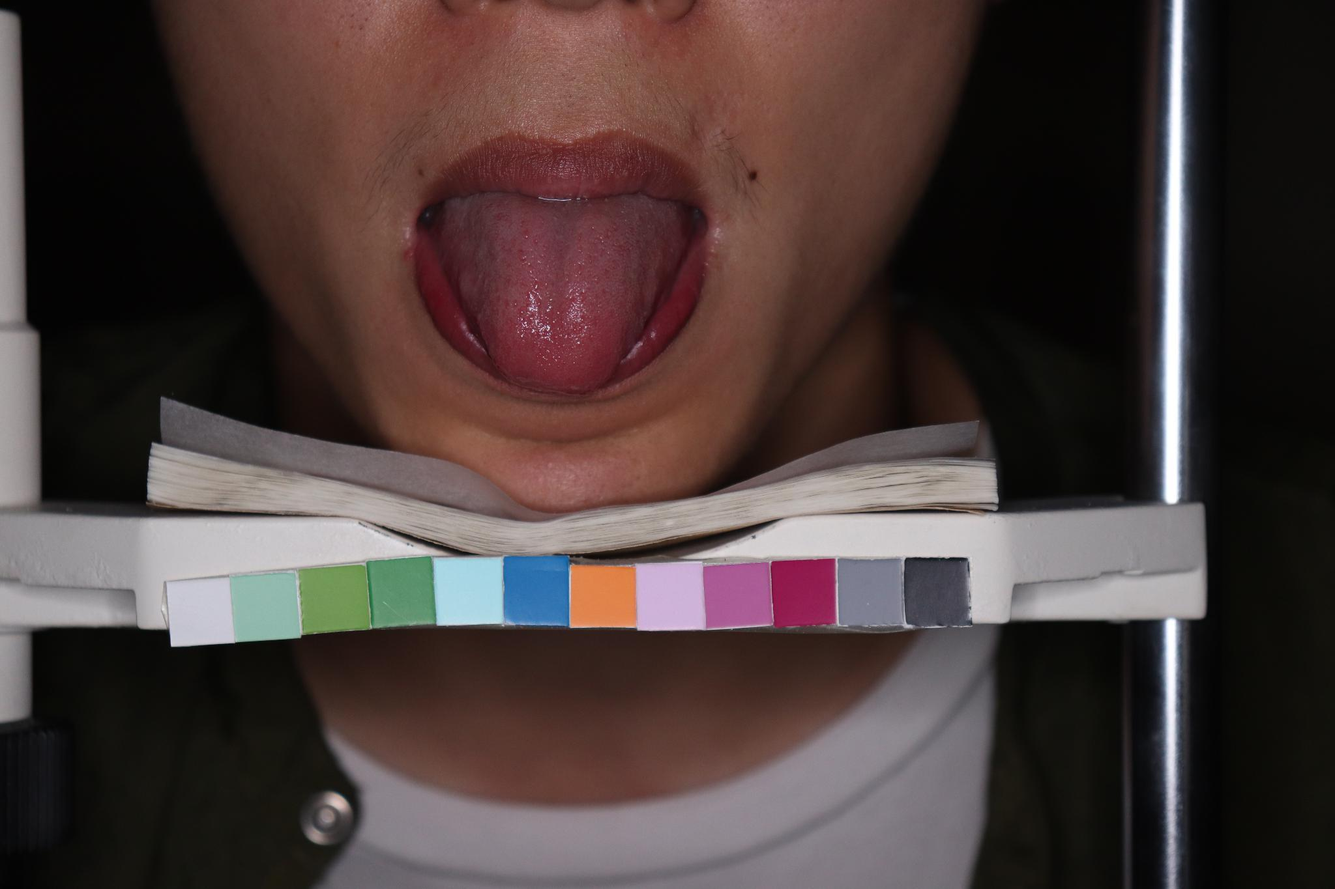baitaishe: (429, 190, 696, 394)
hongshe: (429, 190, 696, 393)
